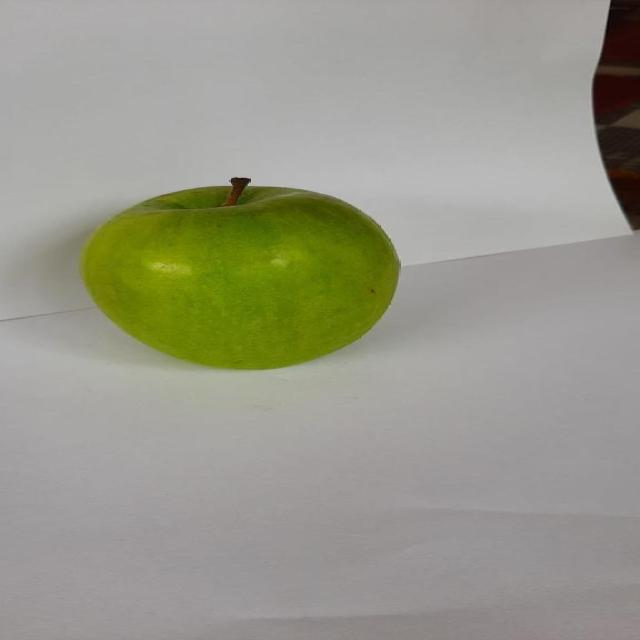Rotten Apple: (67, 172, 416, 382)
